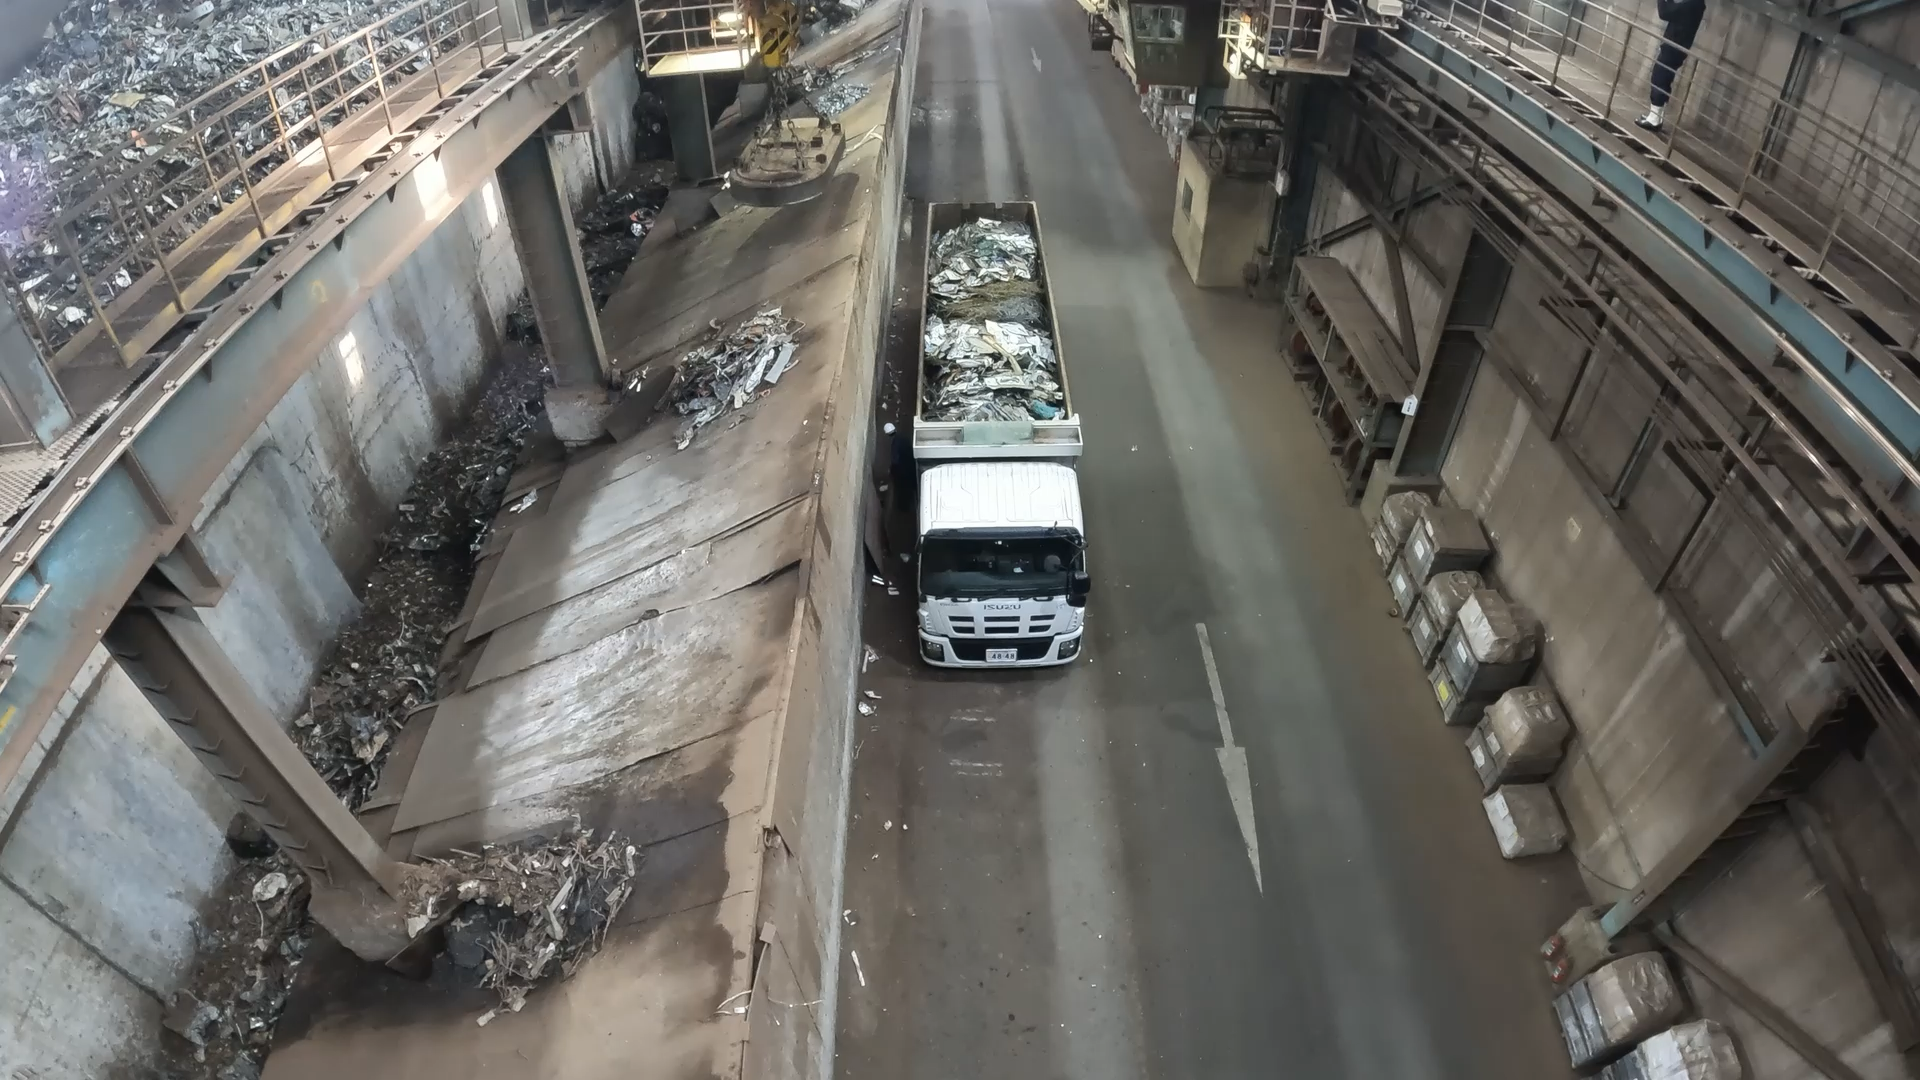truck: (916, 200, 1071, 423)
